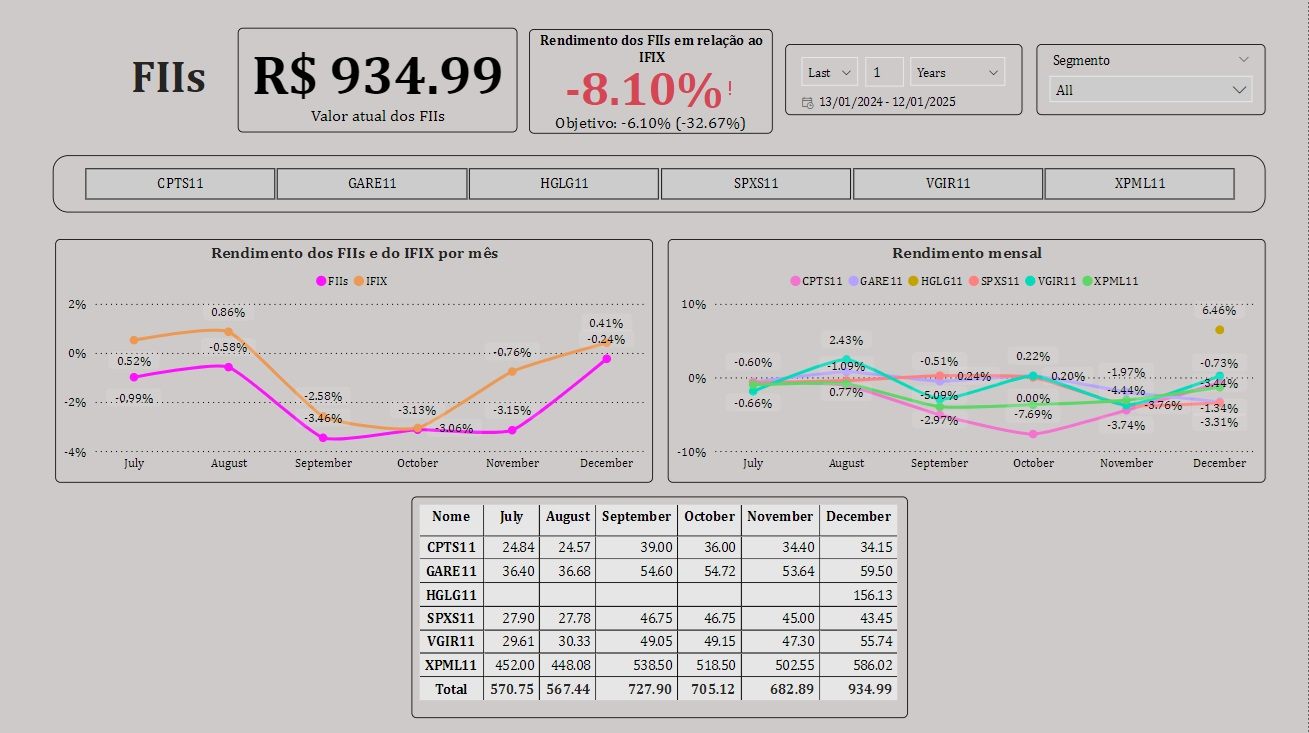

The dashboard page shown, as its layout file describes it:
{"tool":"powerbi","page":{"name":"FIIs","canvas":[1280,720],"ordinal":4},"visuals":[{"type":"card","fields":{"Values":["Max(Visao_Geral.Valor_Atual)"]},"box":[233.6,33,273.9,102.7],"z":0},{"type":"textbox","box":[78.3,50.1,174.9,68.5],"z":1000},{"type":"slicer","fields":{"Values":["Report_Mensal_Single.Nome"]},"box":[52.6,157.7,1186.1,56.3],"z":2000},{"type":"slicer","fields":{"Values":["Invest_Acao.Tipo"]},"box":[1268.1,708,12.2,12.2],"z":3000},{"type":"slicer","fields":{"Values":["Visao_Geral.Tipo"]},"box":[1268.1,708,12.2,12.2],"z":4000},{"type":"slicer","fields":{"Values":["Invest_Acao.Segmento"]},"box":[1015,48.9,223.8,69.7],"z":5000},{"type":"pivotTable","fields":{"Rows":["Report_Mensal_Single.Nome"],"Values":["Sum(Report_Mensal_Single.Valor_Final)"],"Columns":["IBOV_IPCA.Mês.Variation.Date Hierarchy.Year","IBOV_IPCA.Mês.Variation.Date Hierarchy.Month"]},"box":[403.5,491.6,485.5,216.4],"z":6000},{"type":"lineChart","title":"Rendimento dos FIIs e do IFIX por mês","fields":{"Category":["IBOV_IPCA.Mês.Variation.Date Hierarchy.Year","IBOV_IPCA.Mês.Variation.Date Hierarchy.Month"],"Y":["Sum(IBOV_IPCA.FIIs)","Sum(IBOV_IPCA.IFIX)"]},"box":[55,239.7,584.5,238.5],"z":7000},{"type":"slicer","fields":{"Values":["IBOV_IPCA.Mês"]},"box":[769.2,48.9,232.3,69.7],"z":8000},{"type":"lineChart","title":"Rendimento mensal","fields":{"Category":["IBOV_IPCA.Mês.Variation.Date Hierarchy.Year","IBOV_IPCA.Mês.Variation.Date Hierarchy.Month"],"Y":["Sum(Report_Mensal_Single.%Rend)"],"Series":["Report_Mensal_Single.Nome"]},"box":[654.2,239.7,584.5,238.5],"z":9000},{"type":"kpi","title":"Rendimento dos FIIs em relação ao IFIX","fields":{"TrendLine":["KPI_Anual.Ano"],"Indicator":["Sum(KPI_Anual.FIIs)"],"Goal":["Sum(KPI_Anual.IFIX)"]},"box":[518.5,34.2,238.5,102.7],"z":10000}]}

Visuals, with their boxes in screenshot pixels (x1, y1, x2, y2), scaled from the page's 1280x720 canvas onto the 1309x733 screenshot:
card - Max(Visao_Geral.Valor_Atual): 239:34:519:138
textbox: 80:51:259:121
slicer - Report_Mensal_Single.Nome: 54:161:1267:218
slicer - Invest_Acao.Tipo: 1297:721:1308:732
slicer - Visao_Geral.Tipo: 1297:721:1308:732
slicer - Invest_Acao.Segmento: 1038:50:1267:121
pivotTable - Report_Mensal_Single.Nome x Sum(Report_Mensal_Single.Valor_Final): 413:500:909:721
"Rendimento dos FIIs e do IFIX por mês" lineChart: 56:244:654:487
slicer - IBOV_IPCA.Mês: 787:50:1024:121
"Rendimento mensal" lineChart: 669:244:1267:487
"Rendimento dos FIIs em relação ao IFIX" kpi: 530:35:774:139
